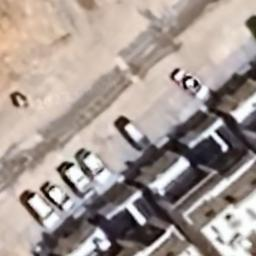sedan: (42, 177, 74, 218)
truck: (64, 164, 92, 192)
van: (24, 190, 58, 230), (78, 147, 110, 185)
